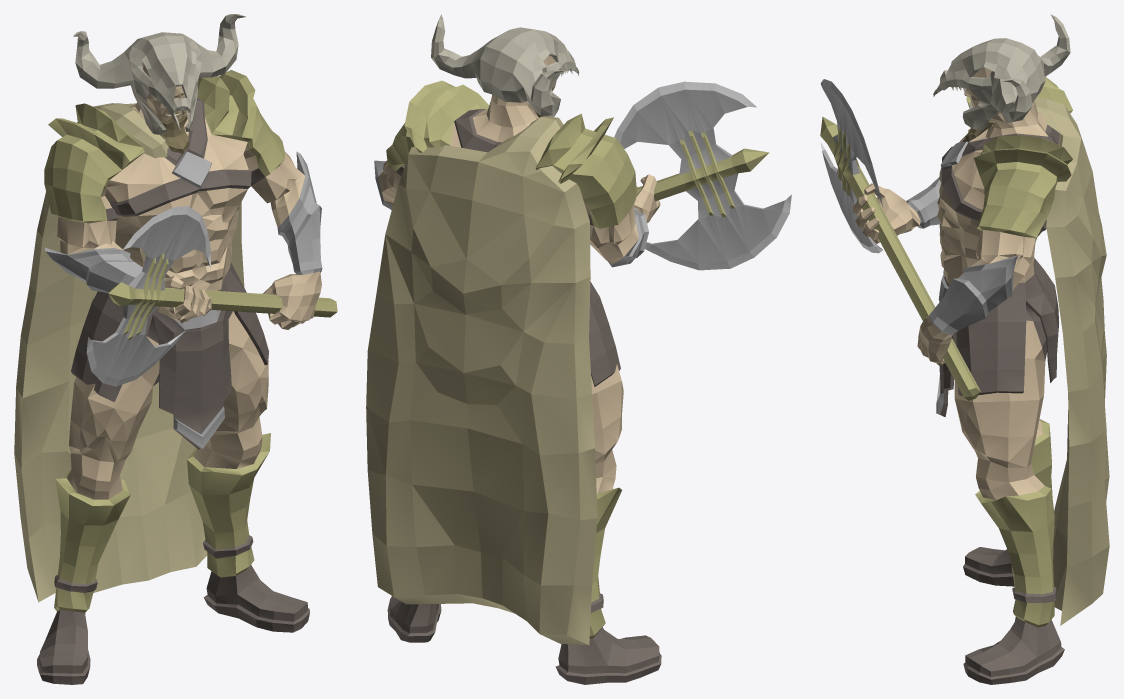
File: Ares.fbx
3 renders of one model, left to right at view 1: azimuth 30°, elevation 25°; view 2: azimuth 150°, elevation 25°; view 3: azimuth 270°, elevation 25°, orthographic. The views are drawn at different scales.
Parts seen in each view (by area): view 1: Ares; view 2: Ares; view 3: Ares.
Part boxes in pixels (x1,y1,x2,y2): Ares: (14,14,337,684); Ares: (366,14,791,684); Ares: (820,14,1109,684).
Bounding box in the file's own units: 163 × 292 × 132.
